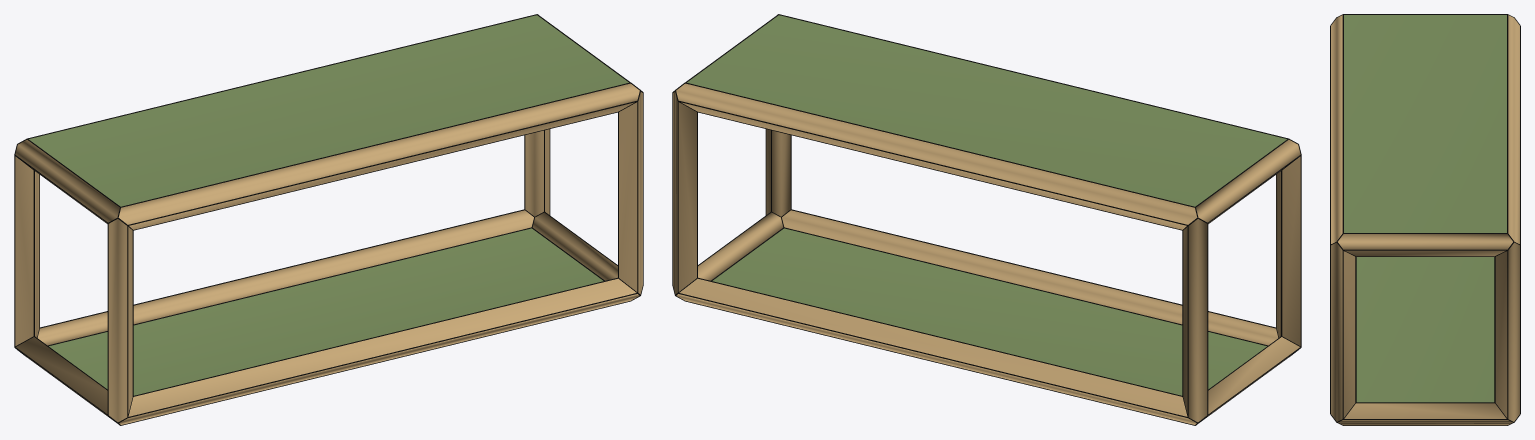
File: banc-moyen.glb
3 renders of one model, left to right at view 1: azimuth 30°, elevation 25°; view 2: azimuth 150°, elevation 25°; view 3: azimuth 270°, elevation 25°, orthographic. The views are drawn at different scales.
Visible parts, largest first — view 1: panneau-dessus_exterieur, panneau-dessous, arete-X2, arete-X0, arete-X1, arete-Z0, arete-Z1, arete-Z2, arete-wire-X0, arete-wire-X2, arete-Y2, arete-Y0 (+8 smaller); view 2: panneau-dessus_exterieur, panneau-dessous, arete-X3, arete-X1, arete-X0, arete-Z2, arete-Z3, arete-Z0, arete-wire-X1, arete-wire-X3, arete-Y2, arete-Y0 (+9 smaller); view 3: panneau-dessus_exterieur, panneau-dessous, arete-Z1, arete-Z3, arete-Y3, arete-Y1, arete-X2, arete-X3, arete-wire-Z1, arete-wire-Z3, arete-wire-X2, arete-wire-X3 (+4 smaller).
Boxes of the visible parts, x1,y1,x2,y2 form: panneau-dessus_exterieur: (29,15,628,206); panneau-dessous: (49,228,603,395); arete-X2: (118,83,639,229); arete-X0: (119,278,639,424); arete-X1: (37,210,533,345); arete-Z0: (108,219,132,422); arete-Z1: (619,92,642,294); arete-Z2: (15,156,39,345); arete-wire-X0: (118,277,640,425); arete-wire-X2: (117,82,640,230); arete-Y2: (15,140,119,223); arete-Y0: (16,337,107,415); panneau-dessus_exterieur: (687,15,1286,206); panneau-dessous: (712,228,1266,395); arete-X3: (676,83,1197,229); arete-X1: (676,278,1196,424); arete-X0: (782,210,1278,345); arete-Z2: (1183,219,1207,422); arete-Z3: (673,92,696,294); arete-Z0: (1276,156,1300,345); arete-wire-X1: (675,277,1197,425); arete-wire-X3: (675,82,1194,230); arete-Y2: (1196,140,1300,223); arete-Y0: (1208,337,1299,415); panneau-dessus_exterieur: (1344,15,1506,232); panneau-dessous: (1356,257,1494,402); arete-Z1: (1331,242,1355,421); arete-Z3: (1495,242,1519,421); arete-Y3: (1338,234,1512,256); arete-Y1: (1338,403,1512,425); arete-X2: (1331,15,1342,243); arete-X3: (1508,15,1519,243); arete-wire-Z1: (1330,242,1356,419); arete-wire-Z3: (1494,245,1520,419); arete-wire-X2: (1330,14,1343,245); arete-wire-X3: (1507,14,1520,245).
Size of the model in its own units: 1.23 by 0.4809 by 0.4309.
